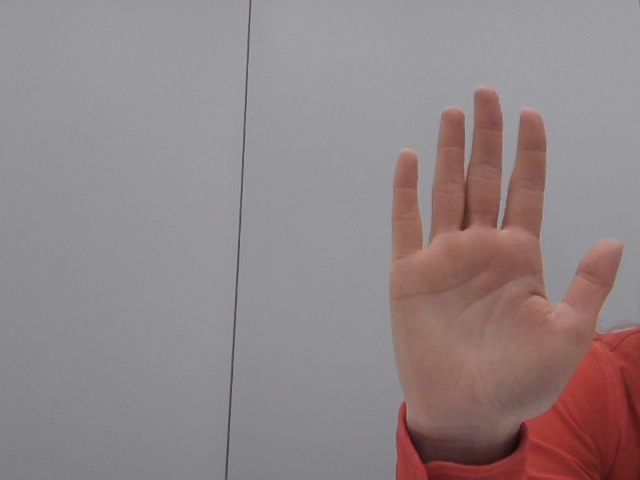nada: (362, 70, 621, 472)
